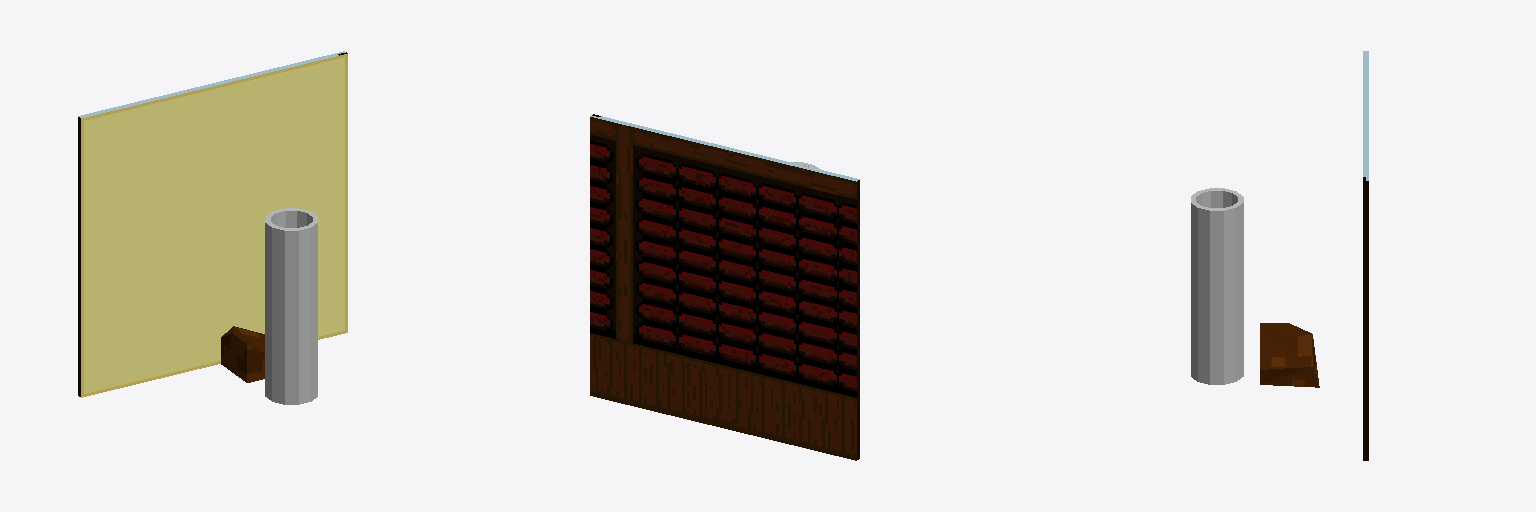
3 renders of one model, left to right at view 1: azimuth 30°, elevation 25°; view 2: azimuth 150°, elevation 25°; view 3: azimuth 270°, elevation 25°, orthographic.
Parts seen in each view (by area): view 1: cube, tube, cuboid; view 2: cube; view 3: tube, cuboid, cube.
Part boxes in pixels (bbox=[...]): cube: bbox=[78, 51, 347, 397]; tube: bbox=[265, 208, 317, 404]; cuboid: bbox=[221, 326, 264, 382]; cube: bbox=[590, 114, 859, 460]; tube: bbox=[1191, 188, 1243, 384]; cuboid: bbox=[1260, 323, 1319, 387]; cube: bbox=[1363, 51, 1368, 460].
Bounding box in the file's own units: 5.81 × 5.81 × 3.38.
3 materials, 2 textured.